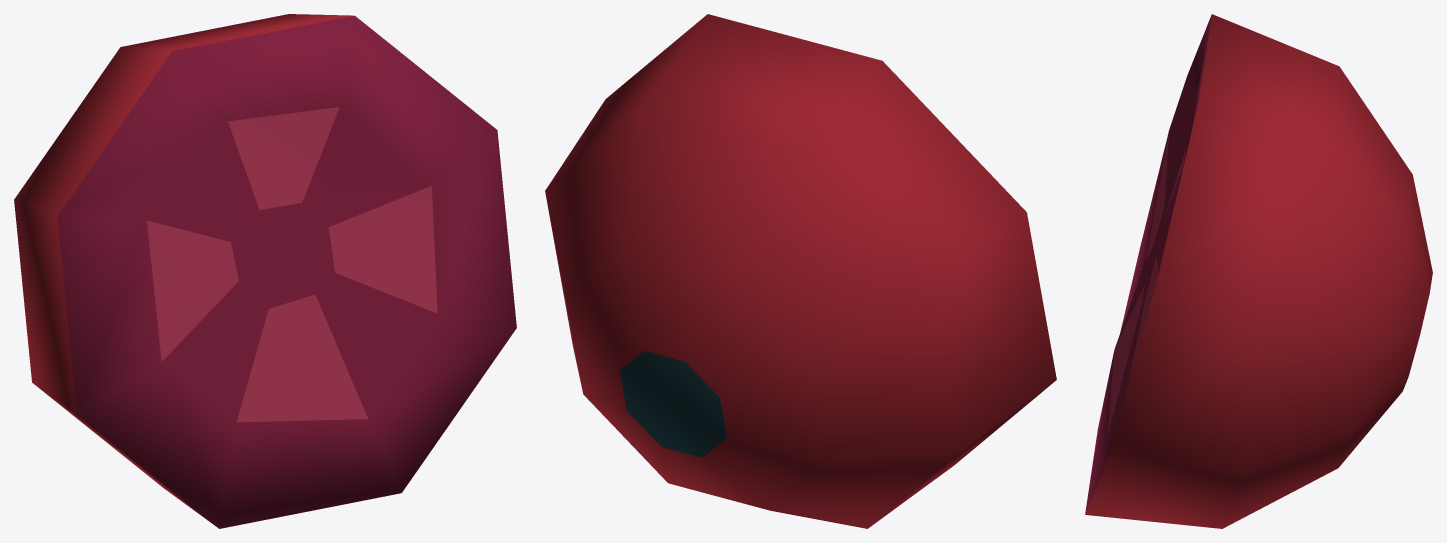
File: tomato01.fbx
3 views of the same model, side by side, from view 1: azimuth 30°, elevation 25°; view 2: azimuth 150°, elevation 25°; view 3: azimuth 270°, elevation 25° (orthographic). The views are drawn at different scales.
Visible parts, largest first — view 1: tomato01; view 2: tomato01; view 3: tomato01.
Boxes of the visible parts, x1,y1,x2,y2 form: tomato01: (14,14,516,528); tomato01: (545,14,1056,528); tomato01: (1085,14,1432,528).
Size of the model in its own units: 13.5 by 13.48 by 9.74.
